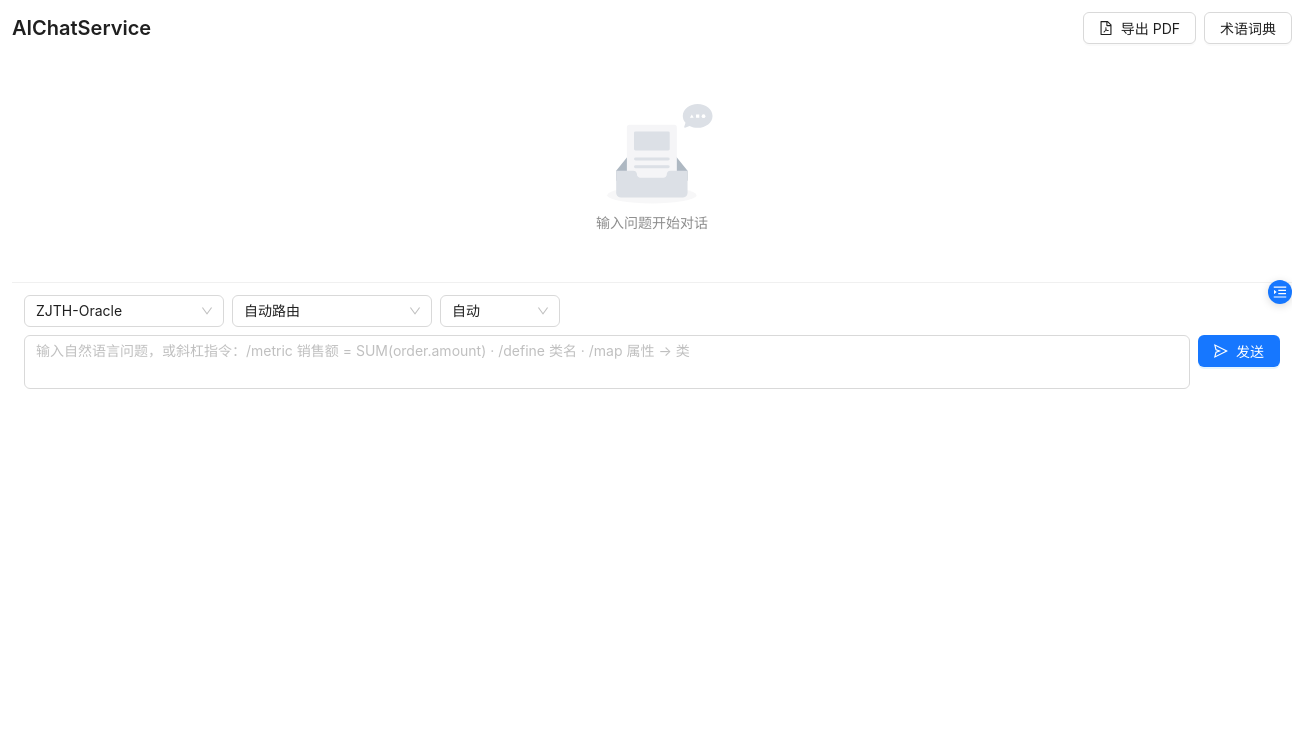
Test case: ChatPage › toggleHistoryPanel 切换渲染：false→true 显示面板，true→false 显示按钮
expect the text "历史问答" is not shown: met
# 点击浮起按钮展开
Step 1. Click the button named "展开历史" → (1280, 292), box 1268,280 -> 1292,304
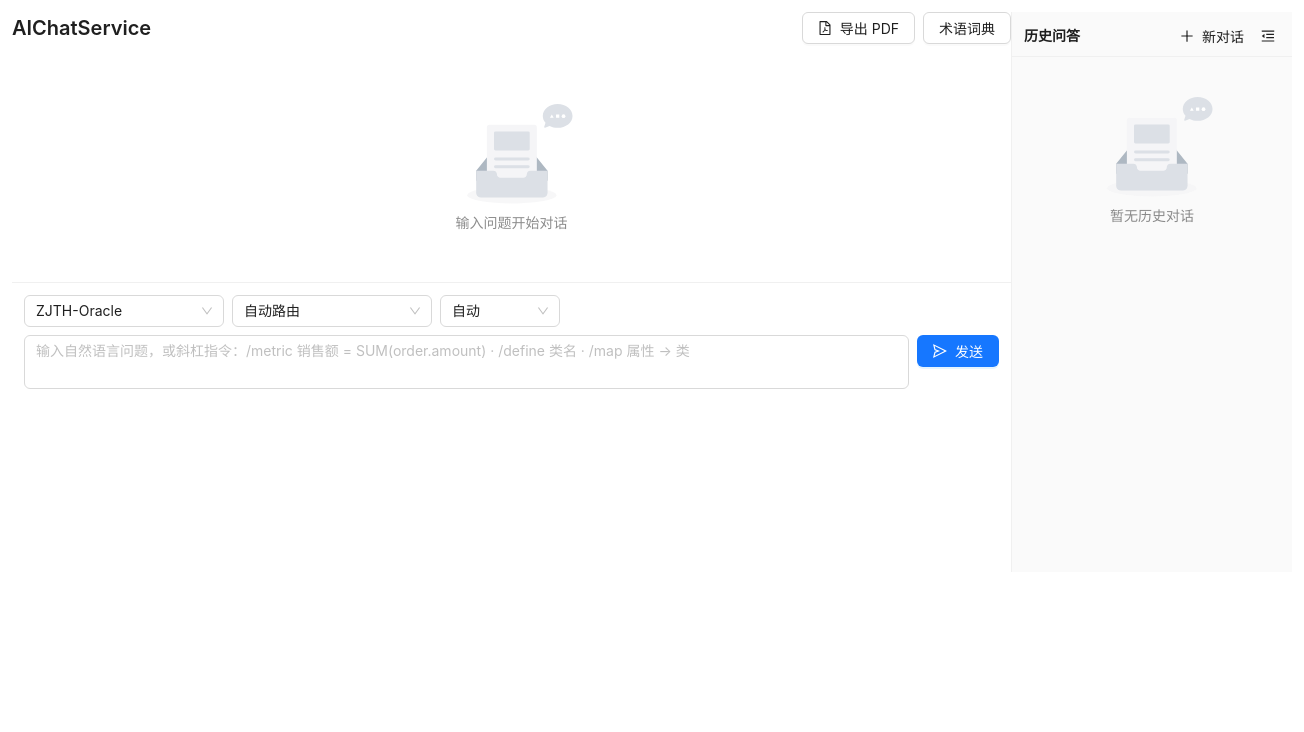
expect the text "历史问答" is shown: met, box 1024,27 -> 1080,44
expect the button "展开历史" is gone: met
